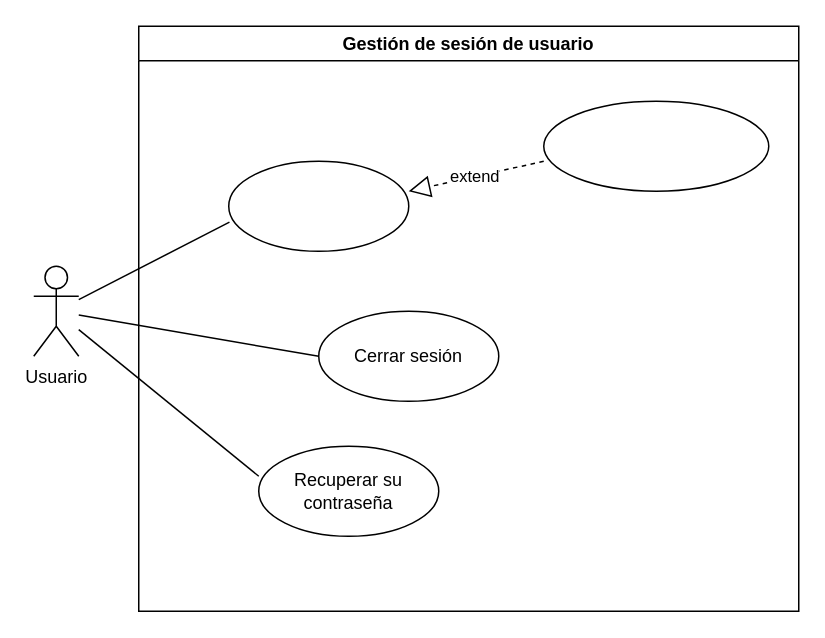
The diagram is 825 pixels wide and 638 high, and some of its shapes have lost their labels. The centre of each missing label's shape, as x and y in pixels:
"Iniciar sesión" goes at [318,205].
"Iniciar sesión con Google" goes at [655,145].
